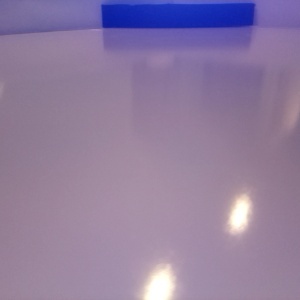zone: (101, 3, 254, 28)
